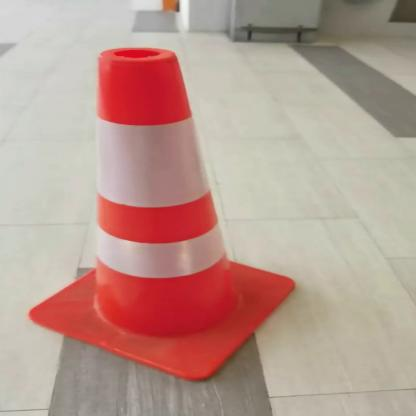cone: (23, 42, 304, 383)
